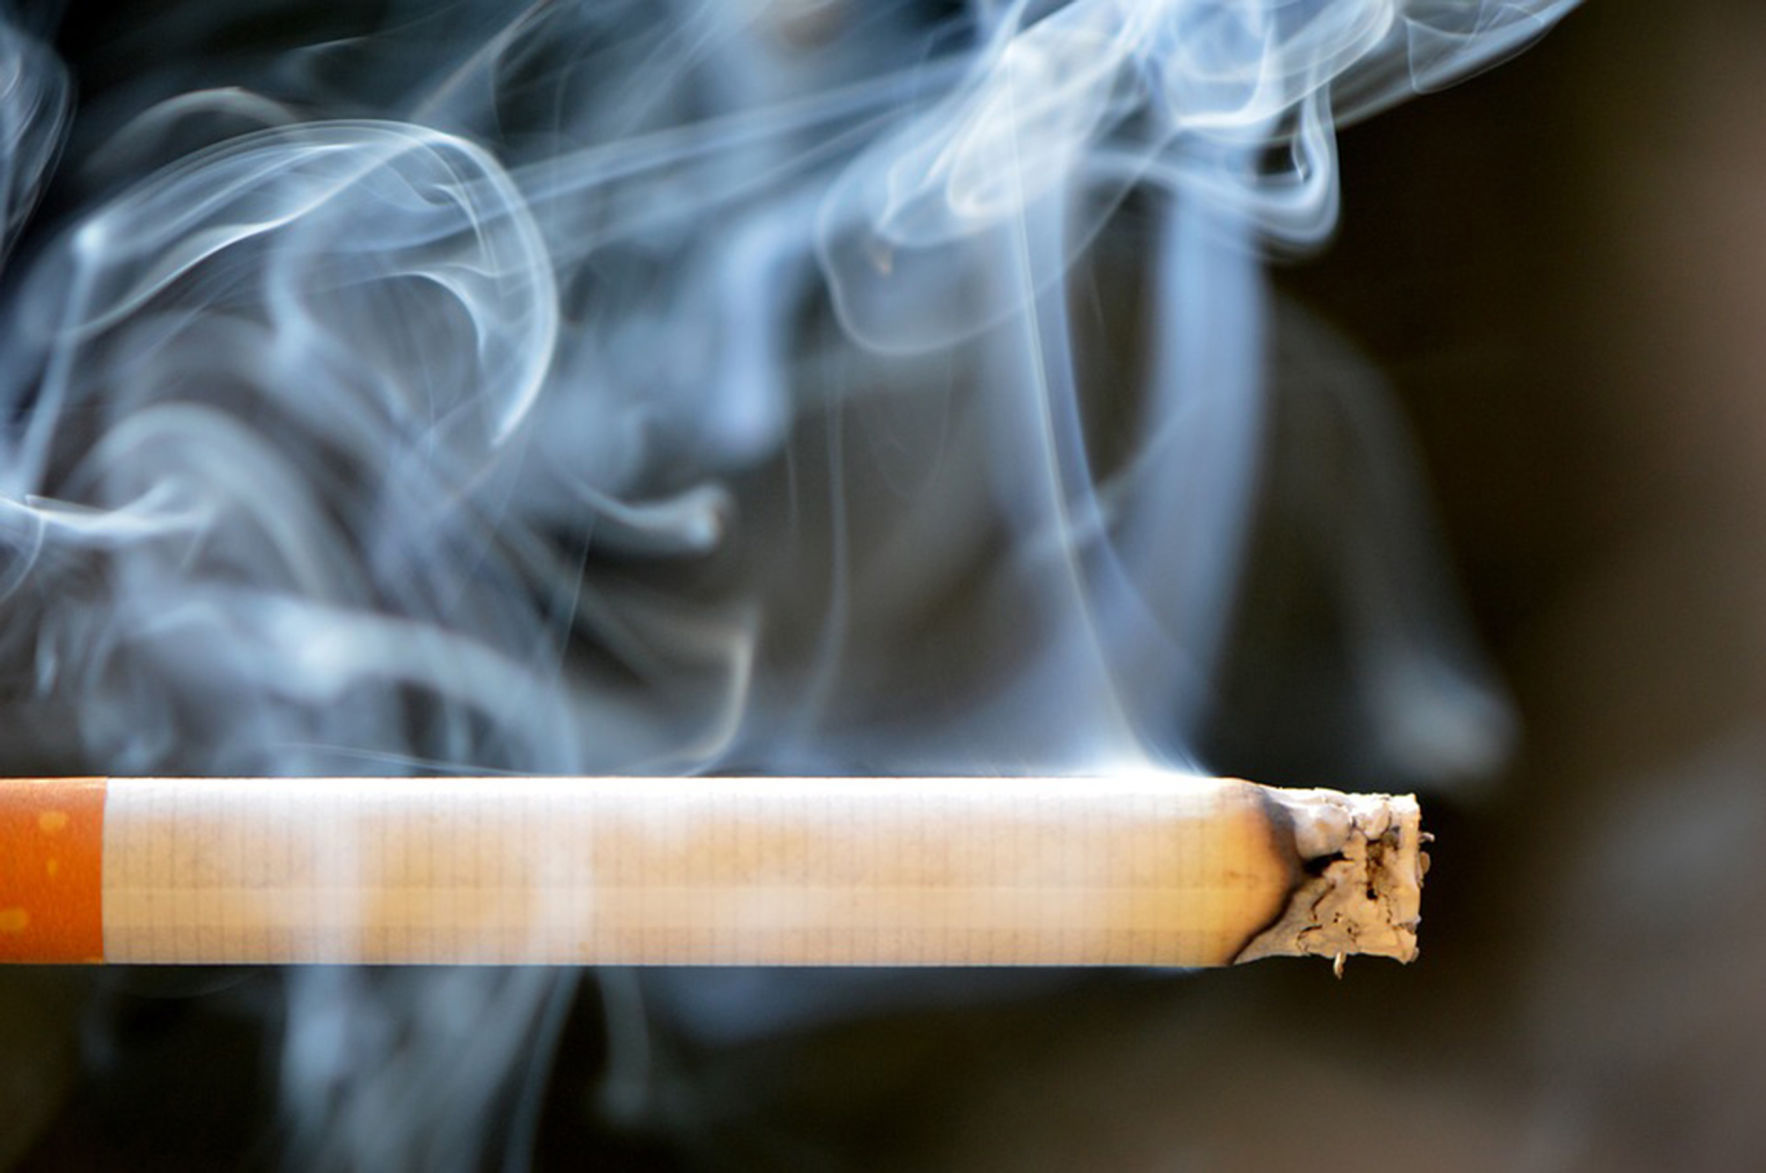cigarette: (7, 712, 1451, 1003)
